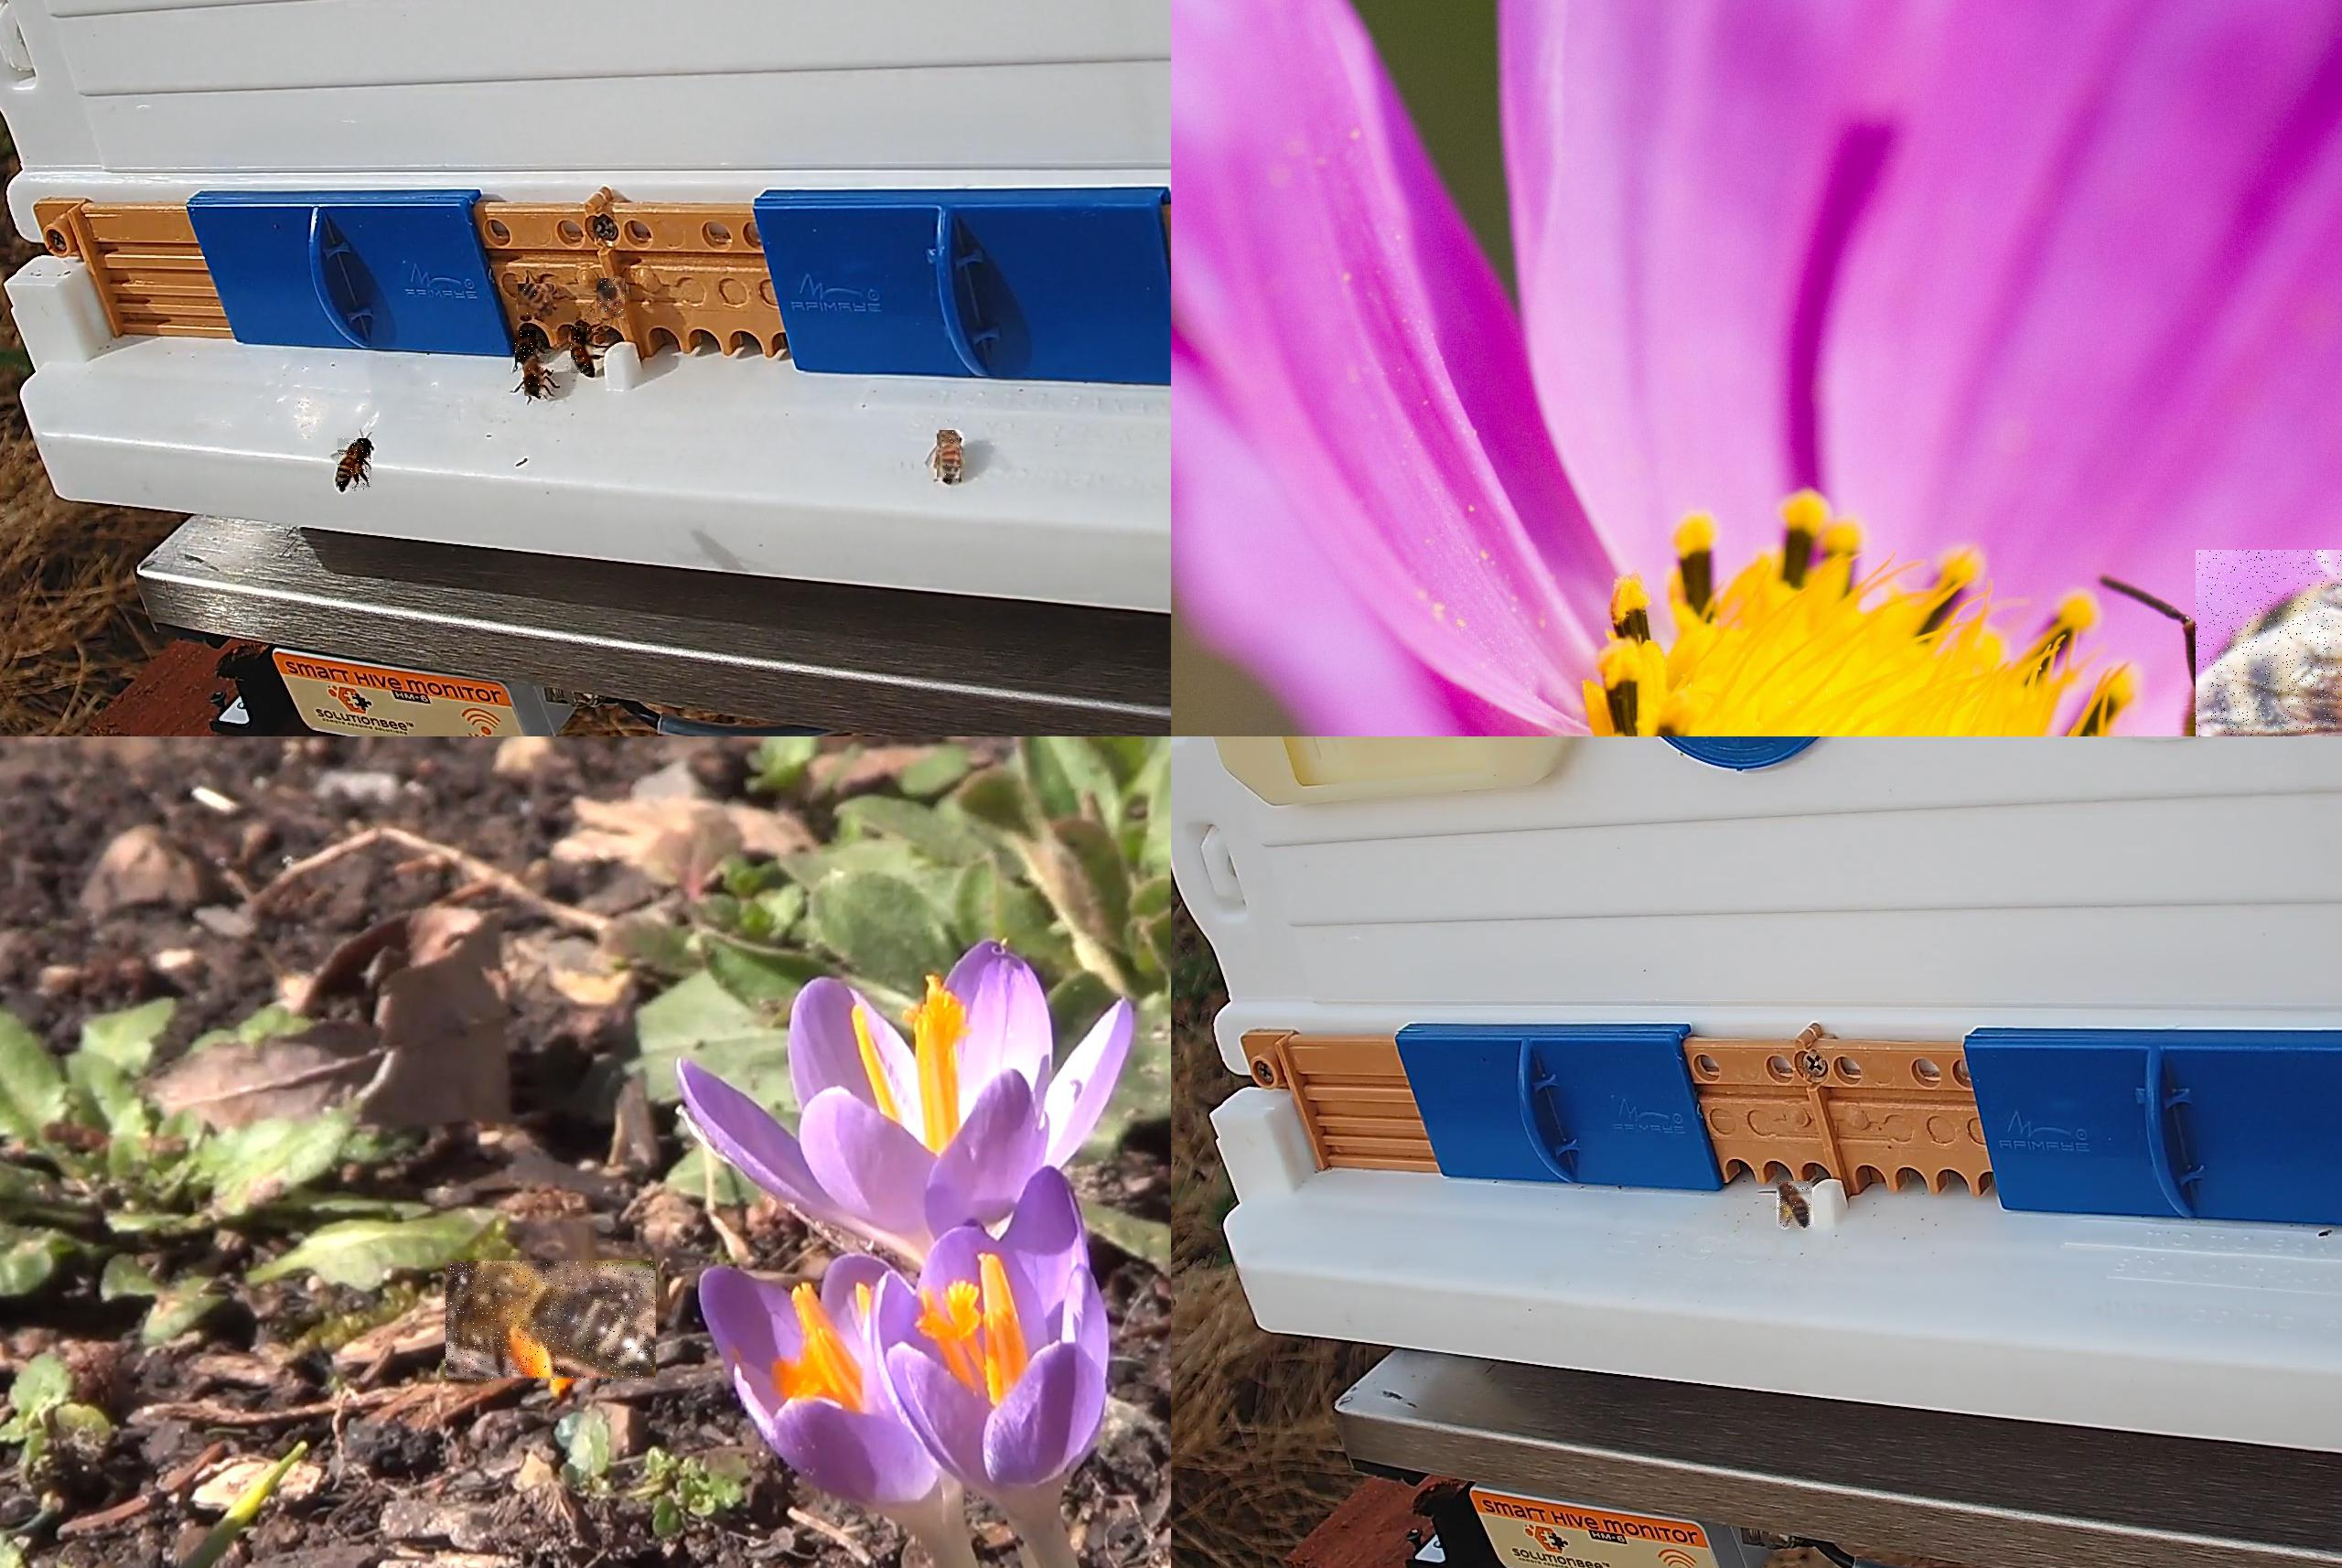bee: (446, 1262, 656, 1383), (936, 430, 961, 481), (518, 285, 553, 320), (597, 278, 627, 318), (571, 327, 595, 374), (515, 331, 537, 364), (525, 359, 544, 397)
pollenbee: (338, 439, 373, 492), (1777, 1181, 1813, 1228)
